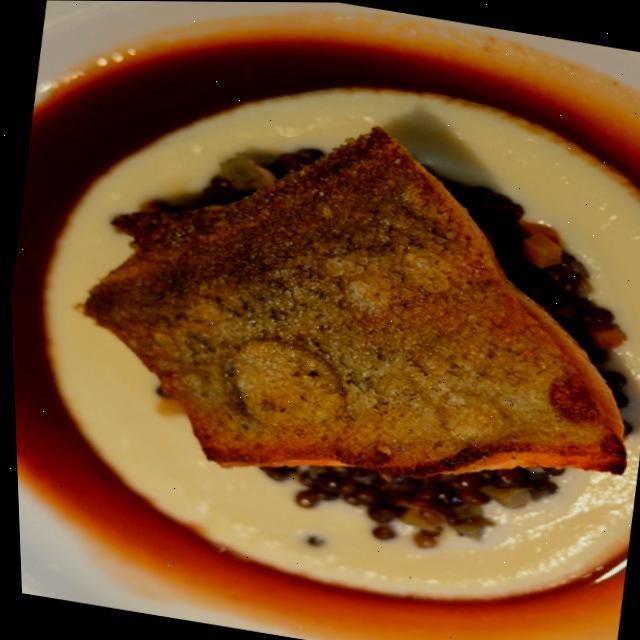牛肉菜式: (55, 83, 640, 583)
